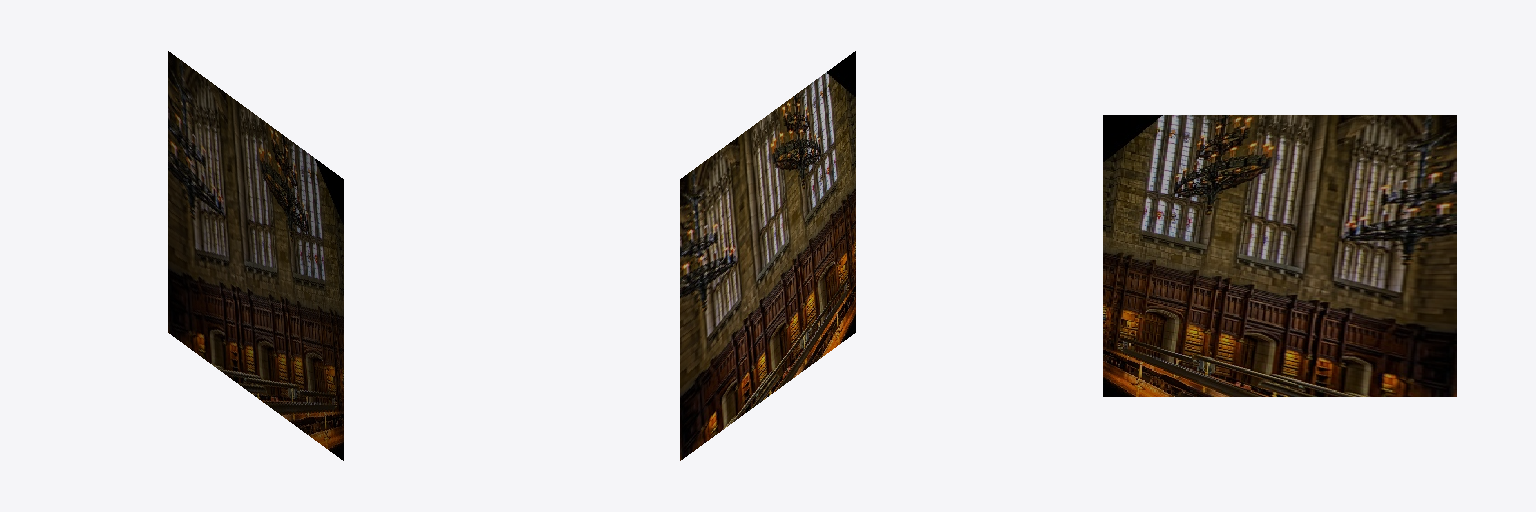
The picture shows the model from 3 angles: view 1: azimuth 30°, elevation 25°; view 2: azimuth 150°, elevation 25°; view 3: azimuth 270°, elevation 25°; orthographic projection.
Visible parts, largest first — view 1: Plane; view 2: Plane; view 3: Plane.
Part boxes in pixels (x1,y1,x2,y2): Plane: (168,51,343,460); Plane: (680,51,855,460); Plane: (1103,115,1456,396).
Bounding box in the file's own units: 0 × 2.47 × 2.8.
Materials: 1 (1 with a texture image).